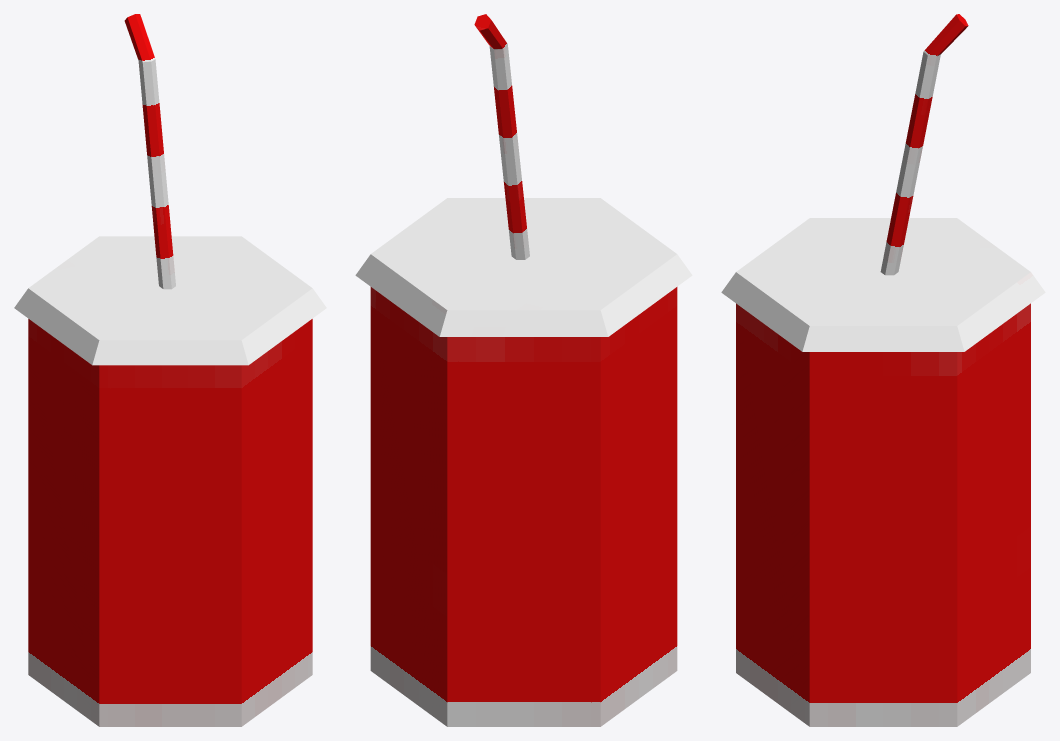
Rendered from TrashCup.fbx.
3 renders of one model, left to right at view 1: azimuth 30°, elevation 25°; view 2: azimuth 150°, elevation 25°; view 3: azimuth 270°, elevation 25°, orthographic. The views are drawn at different scales.
Parts seen in each view (by area): view 1: Cylinder.001; view 2: Cylinder.001; view 3: Cylinder.001.
Boxes of the visible parts, box(x1,y1,x2,y2) form: Cylinder.001: box(14, 14, 326, 726); Cylinder.001: box(355, 14, 692, 726); Cylinder.001: box(721, 14, 1045, 726).
Size of the model in its own units: 95.26 by 246 by 110.
